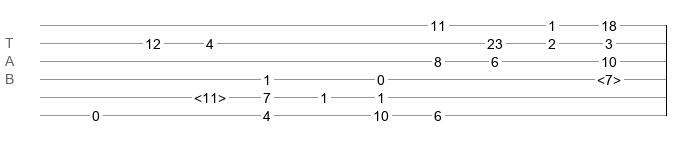0: (92, 108, 100, 118), (377, 72, 385, 82)
1: (263, 72, 271, 82), (320, 90, 328, 100), (377, 90, 385, 100), (548, 18, 556, 28)
10: (373, 108, 389, 118), (601, 54, 617, 64)
11: (430, 18, 446, 28)
12: (145, 36, 161, 46)
18: (601, 18, 617, 28)
2: (548, 36, 556, 46)
23: (487, 36, 503, 46)
3: (605, 36, 613, 46)
4: (206, 36, 214, 46), (263, 108, 271, 118)
6: (434, 108, 442, 118), (491, 54, 499, 64)
7: (263, 90, 271, 100)
8: (434, 54, 442, 64)
harmonic: (194, 90, 226, 100), (597, 72, 621, 82)
